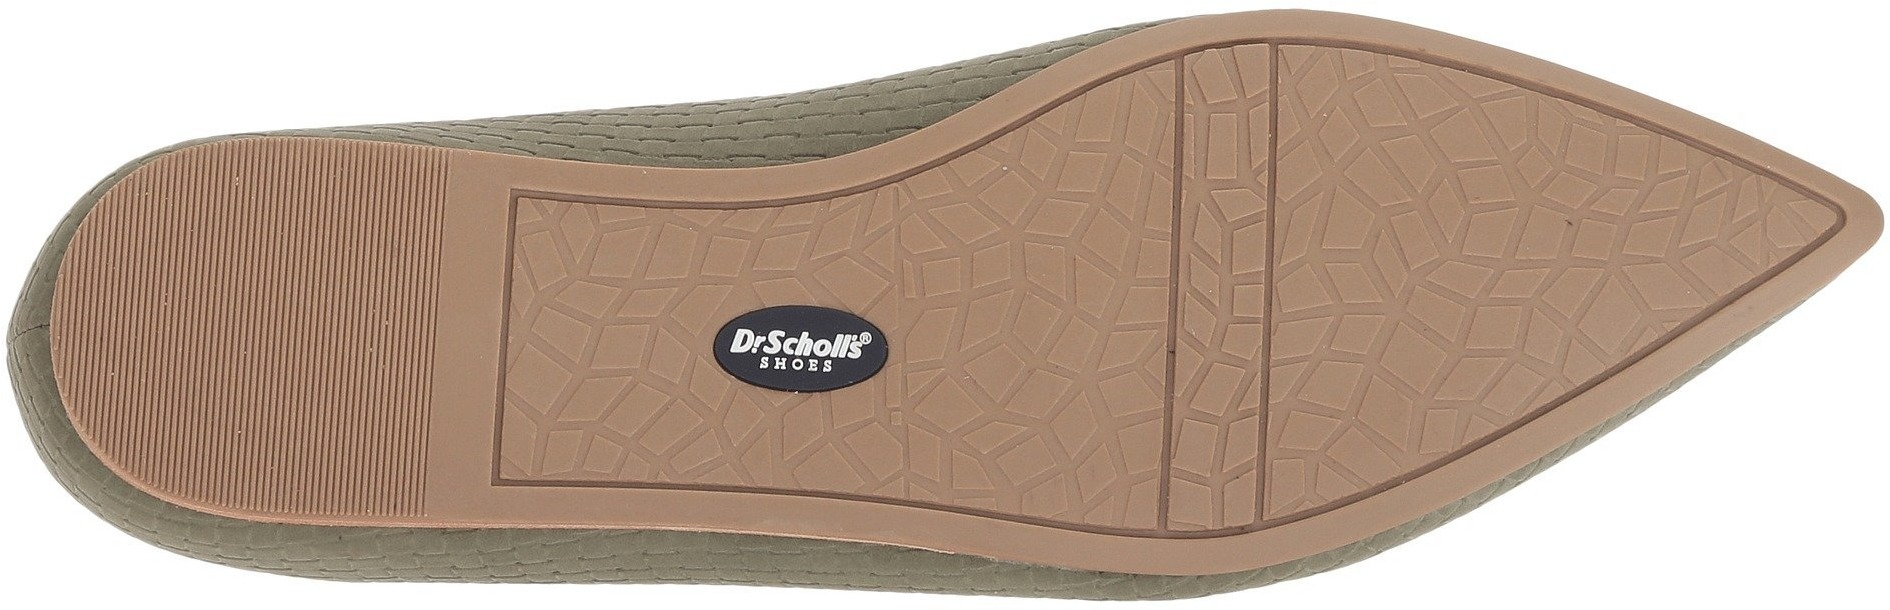circle: (732, 317, 820, 382)
other: (129, 180, 419, 497)
quad: (1280, 119, 1563, 386), (910, 174, 1169, 422), (526, 210, 714, 401), (1567, 151, 1719, 304), (1308, 385, 1409, 480)
text: (732, 317, 820, 382), (823, 321, 869, 375)
